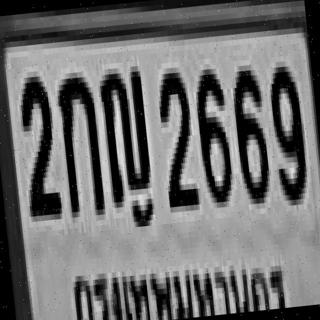A01: (53, 66, 103, 213)
A13: (96, 61, 152, 208)
N02: (13, 70, 60, 217), (154, 66, 198, 208)
N06: (190, 63, 232, 204), (228, 64, 270, 200)
N09: (265, 60, 307, 201)
P04: (67, 238, 287, 320)
